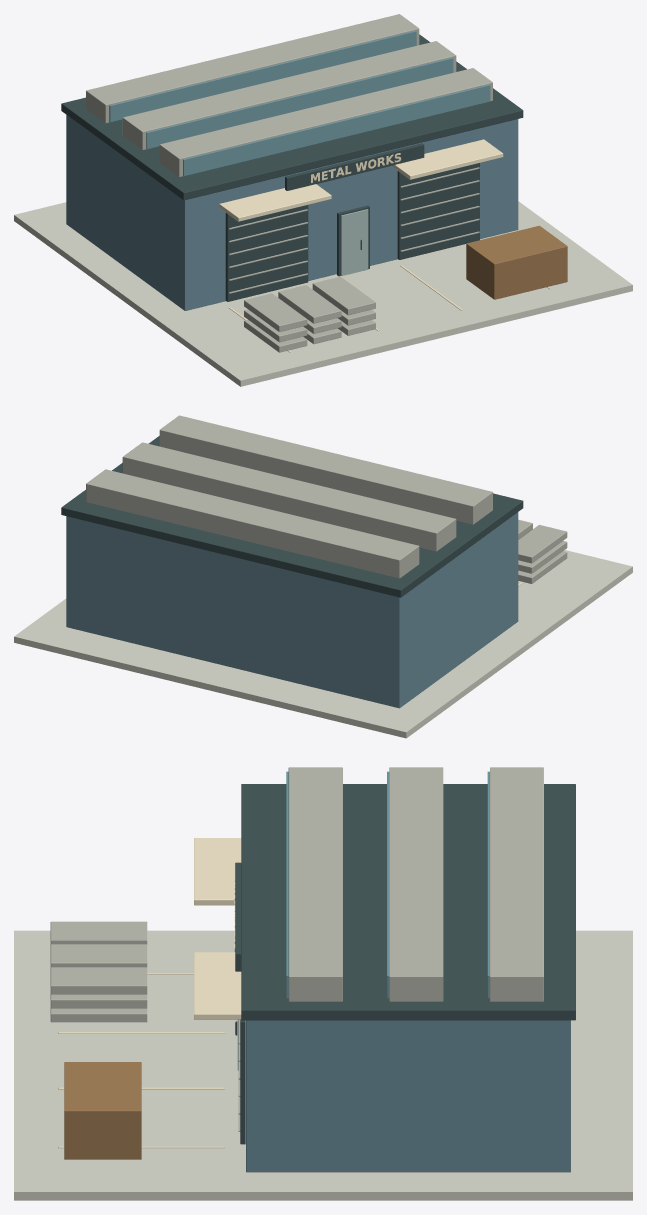
Rendered from small-4x4-metalshop-02.glb.
3 views of the same model, one above another, from view 1: azimuth 30°, elevation 25°; view 2: azimuth 150°, elevation 25°; view 3: azimuth 270°, elevation 25° (orthographic). The views are drawn at different scales.
Visible parts, largest first — view 1: IndustrialHall, LotPlinth, HallRoof, SawtoothMonitor.001, SawtoothMonitor.002, SawtoothMonitor, LoadingShutter, LoadingShutter.001, OutdoorWorkBench, RoofNorthLight, RoofNorthLight.002, RoofNorthLight.001 (+10 smaller); view 2: IndustrialHall, LotPlinth, SawtoothMonitor.002, SawtoothMonitor.001, SawtoothMonitor, HallRoof, StackedSteelStock.002, StackedSteelStock, StackedSteelStock.001; view 3: LotPlinth, IndustrialHall, HallRoof, SawtoothMonitor, SawtoothMonitor.001, SawtoothMonitor.002, OutdoorWorkBench, DockCanopy.001, DockCanopy, StackedSteelStock.008, StackedSteelStock.005, StackedSteelStock.002 (+7 smaller).
Boxes of the visible parts, x1,y1,x2,y2 form: IndustrialHall: (66,115,518,310); LotPlinth: (14,201,632,386); HallRoof: (61,34,523,200); SawtoothMonitor.001: (122,41,456,149); SawtoothMonitor.002: (86,14,419,123); SawtoothMonitor: (159,68,492,176); LoadingShutter: (225,205,308,301); LoadingShutter.001: (397,163,479,259); OutdoorWorkBench: (466,225,567,299); RoofNorthLight: (183,84,490,176); RoofNorthLight.002: (109,30,416,122); RoofNorthLight.001: (146,57,453,149); IndustrialHall: (66,512,518,708); LotPlinth: (14,550,632,738); SawtoothMonitor.002: (86,469,419,578); SawtoothMonitor.001: (122,442,456,551); SawtoothMonitor: (159,415,492,524); HallRoof: (61,436,523,597); StackedSteelStock.002: (518,525,567,563); StackedSteelStock: (518,551,567,583); StackedSteelStock.001: (518,541,567,573); LotPlinth: (14,930,632,1200); IndustrialHall: (246,1020,570,1172); HallRoof: (241,784,575,1020); SawtoothMonitor: (288,767,342,1001); SawtoothMonitor.001: (389,767,443,1001); SawtoothMonitor.002: (490,767,543,1001); OutdoorWorkBench: (64,1062,141,1159); DockCanopy.001: (194,952,241,1019); DockCanopy: (194,838,241,905); StackedSteelStock.008: (50,967,147,994); StackedSteelStock.005: (50,944,147,967); StackedSteelStock.002: (50,921,147,944).
Size of the model in its own units: 16 by 5.64 by 16.
